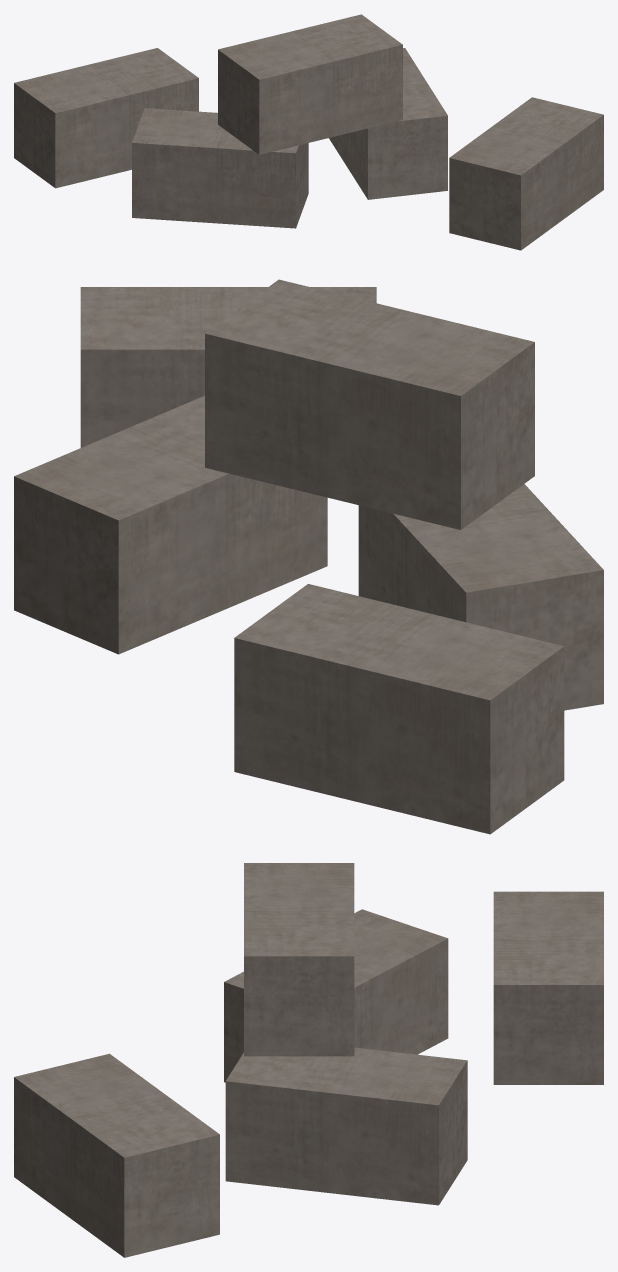
Rendered from detailBricks_typeA.dae.
The picture shows the model from 3 angles, top to bottom: view 1: azimuth 30°, elevation 25°; view 2: azimuth 150°, elevation 25°; view 3: azimuth 270°, elevation 25°; orthographic projection. The views are drawn at different scales.
Parts seen in each view (by area): view 1: detailBricks_typeA; view 2: detailBricks_typeA; view 3: detailBricks_typeA.
Boxes of the visible parts, box(x1,y1,x2,y2) form: detailBricks_typeA: box(14, 14, 603, 250); detailBricks_typeA: box(14, 279, 603, 834); detailBricks_typeA: box(14, 863, 603, 1257).
Size of the model in its own units: 0.5705 by 0.2 by 0.5343.
